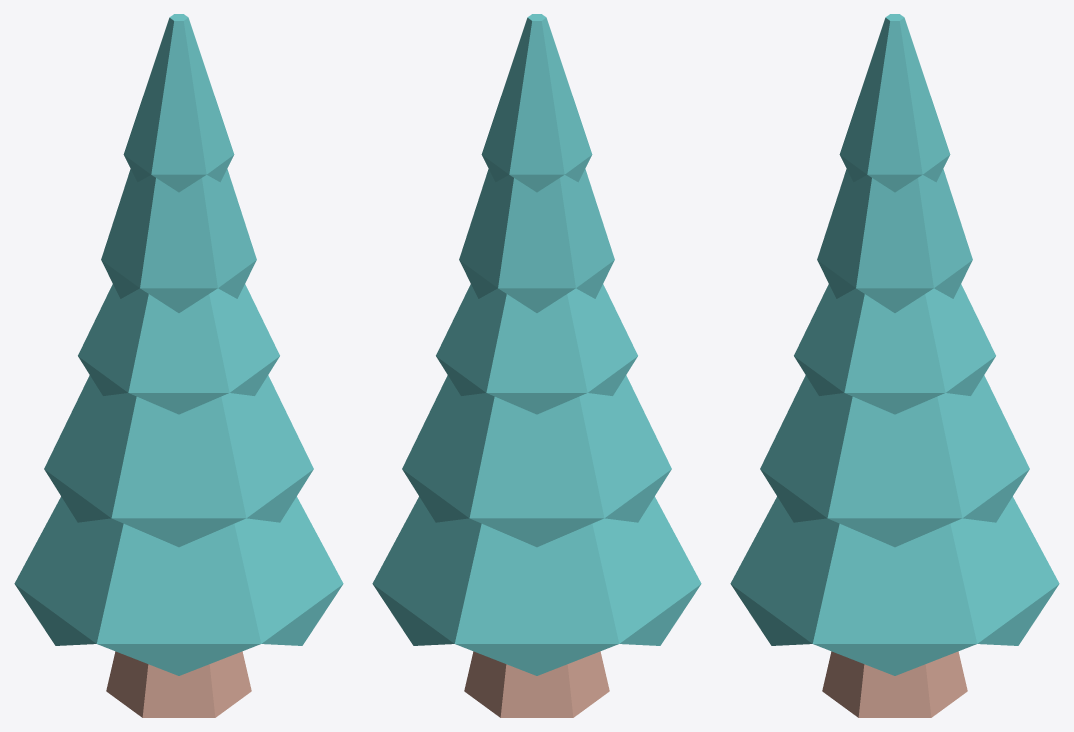
Rendered from tree_pineRoundC.glb.
The picture shows the model from 3 angles, left to right: view 1: azimuth 30°, elevation 25°; view 2: azimuth 150°, elevation 25°; view 3: azimuth 270°, elevation 25°; orthographic projection.
Visible parts, largest first — view 1: tree_pineRoundC; view 2: tree_pineRoundC; view 3: tree_pineRoundC.
Boxes of the visible parts, bbox=[...] form: tree_pineRoundC: bbox=[14, 14, 343, 717]; tree_pineRoundC: bbox=[372, 14, 701, 717]; tree_pineRoundC: bbox=[730, 14, 1059, 717].
Bounding box in the file's own units: 0.4804 × 1.25 × 0.5547.
Materials: 1 (1 with a texture image).
